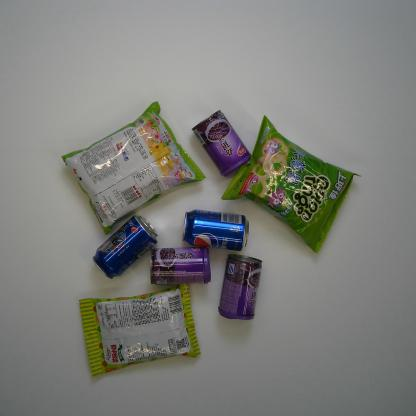Canned Food: (191, 108, 252, 178), (217, 252, 263, 322), (147, 245, 212, 286)
Drink: (91, 214, 159, 280), (179, 208, 251, 251)
Puffed Food: (219, 115, 362, 257), (60, 99, 207, 237), (77, 281, 201, 378)
